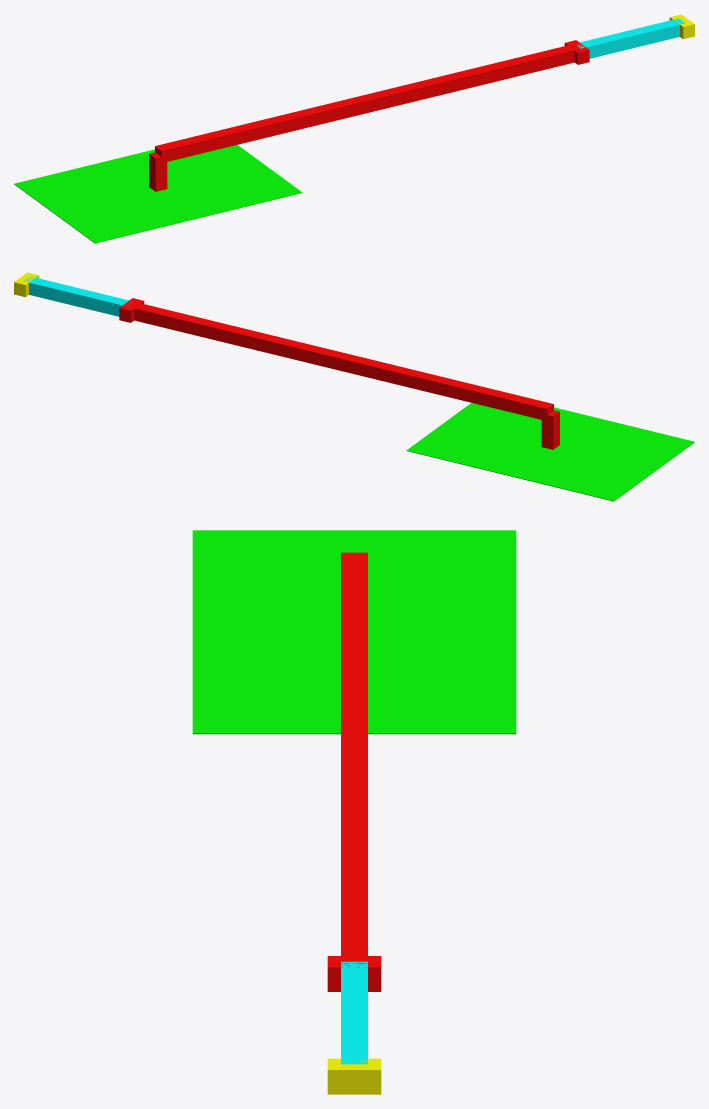
The model's file is rsx_arm.dae.
3 views of the same model, one above another, from view 1: azimuth 30°, elevation 25°; view 2: azimuth 150°, elevation 25°; view 3: azimuth 270°, elevation 25° (orthographic). The views are drawn at different scales.
Parts seen in each view (by area): view 1: link0_base, link2_shoulder, link3_elbow, link5_wrist2, link1_waist; view 2: link0_base, link2_shoulder, link3_elbow, link5_wrist2, link1_waist; view 3: link0_base, link2_shoulder, link3_elbow, link5_wrist2, link6_wrist3, link4_wrist1.
Boxes of the visible parts, box(x1,y1,x2,y2) form: link0_base: box(14, 145, 302, 243); link2_shoulder: box(155, 95, 371, 161); link3_elbow: box(365, 44, 580, 111); link5_wrist2: box(576, 18, 685, 58); link1_waist: box(149, 152, 167, 191); link0_base: box(406, 403, 694, 501); link2_shoulder: box(337, 353, 553, 419); link3_elbow: box(129, 302, 343, 369); link5_wrist2: box(23, 276, 128, 316); link1_waist: box(541, 410, 559, 449); link0_base: box(192, 530, 516, 734); link2_shoulder: box(341, 552, 367, 757); link3_elbow: box(341, 758, 367, 961); link5_wrist2: box(341, 961, 367, 1064); link6_wrist3: box(327, 1058, 381, 1094); link4_wrist1: box(327, 956, 381, 991).
Size of the model in its own units: 108 by 24 by 6.55.
